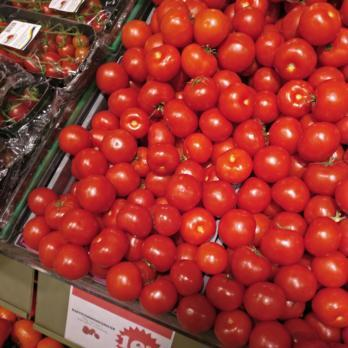Tomato: (107, 0, 348, 302)
